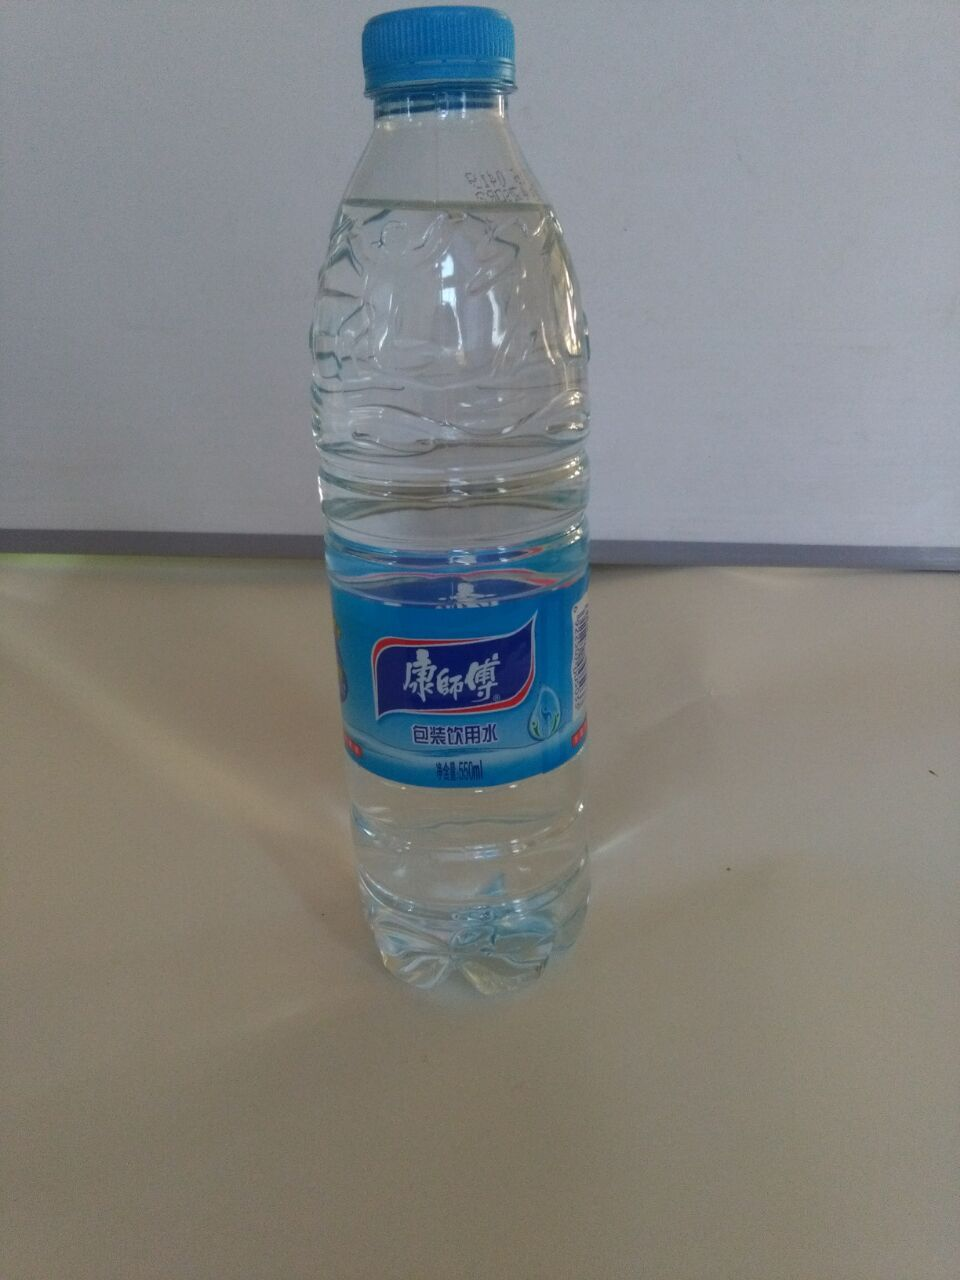amwater: (258, 1, 638, 1037)
